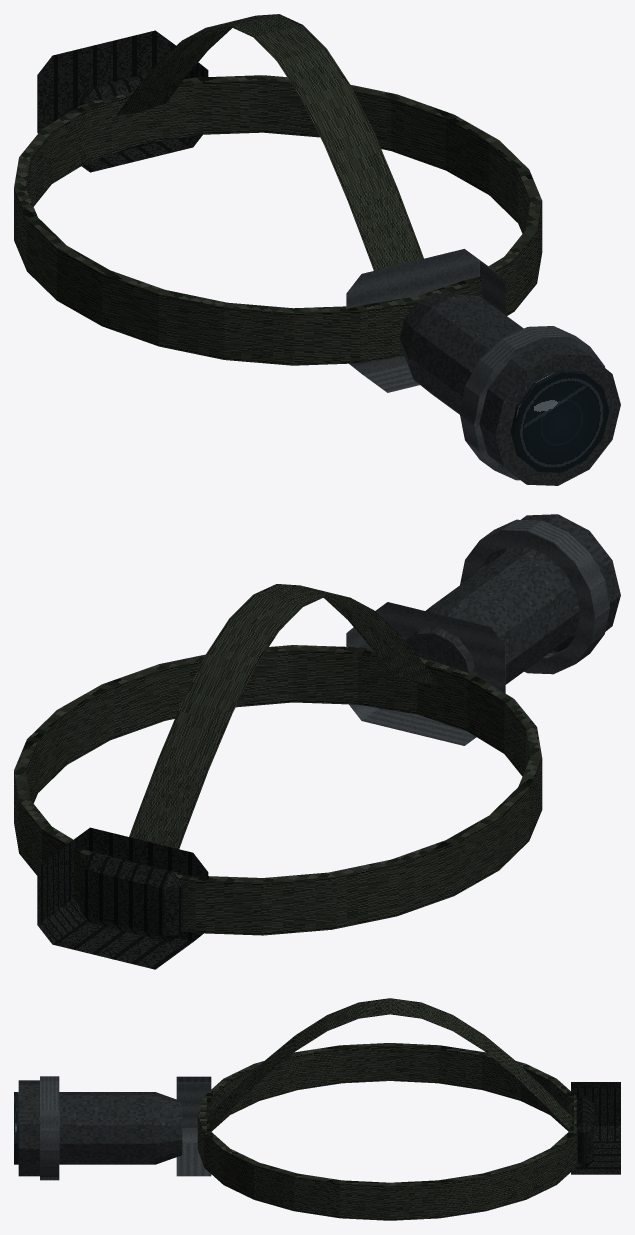
Rendered from blender_head_gear_3.glb.
3 views of the same model, one above another, from view 1: azimuth 30°, elevation 25°; view 2: azimuth 150°, elevation 25°; view 3: azimuth 270°, elevation 25° (orthographic). The views are drawn at different scales.
Parts seen in each view (by area): view 1: blender_head_gear_3; view 2: blender_head_gear_3; view 3: blender_head_gear_3.
Part boxes in pixels (x1,y1,x2,y2): blender_head_gear_3: [14, 14, 620, 485]; blender_head_gear_3: [14, 514, 620, 969]; blender_head_gear_3: [14, 998, 620, 1220].
Size of the model in its own units: 0.176 by 0.097 by 0.3155.
Materials: 5 (5 with a texture image).
